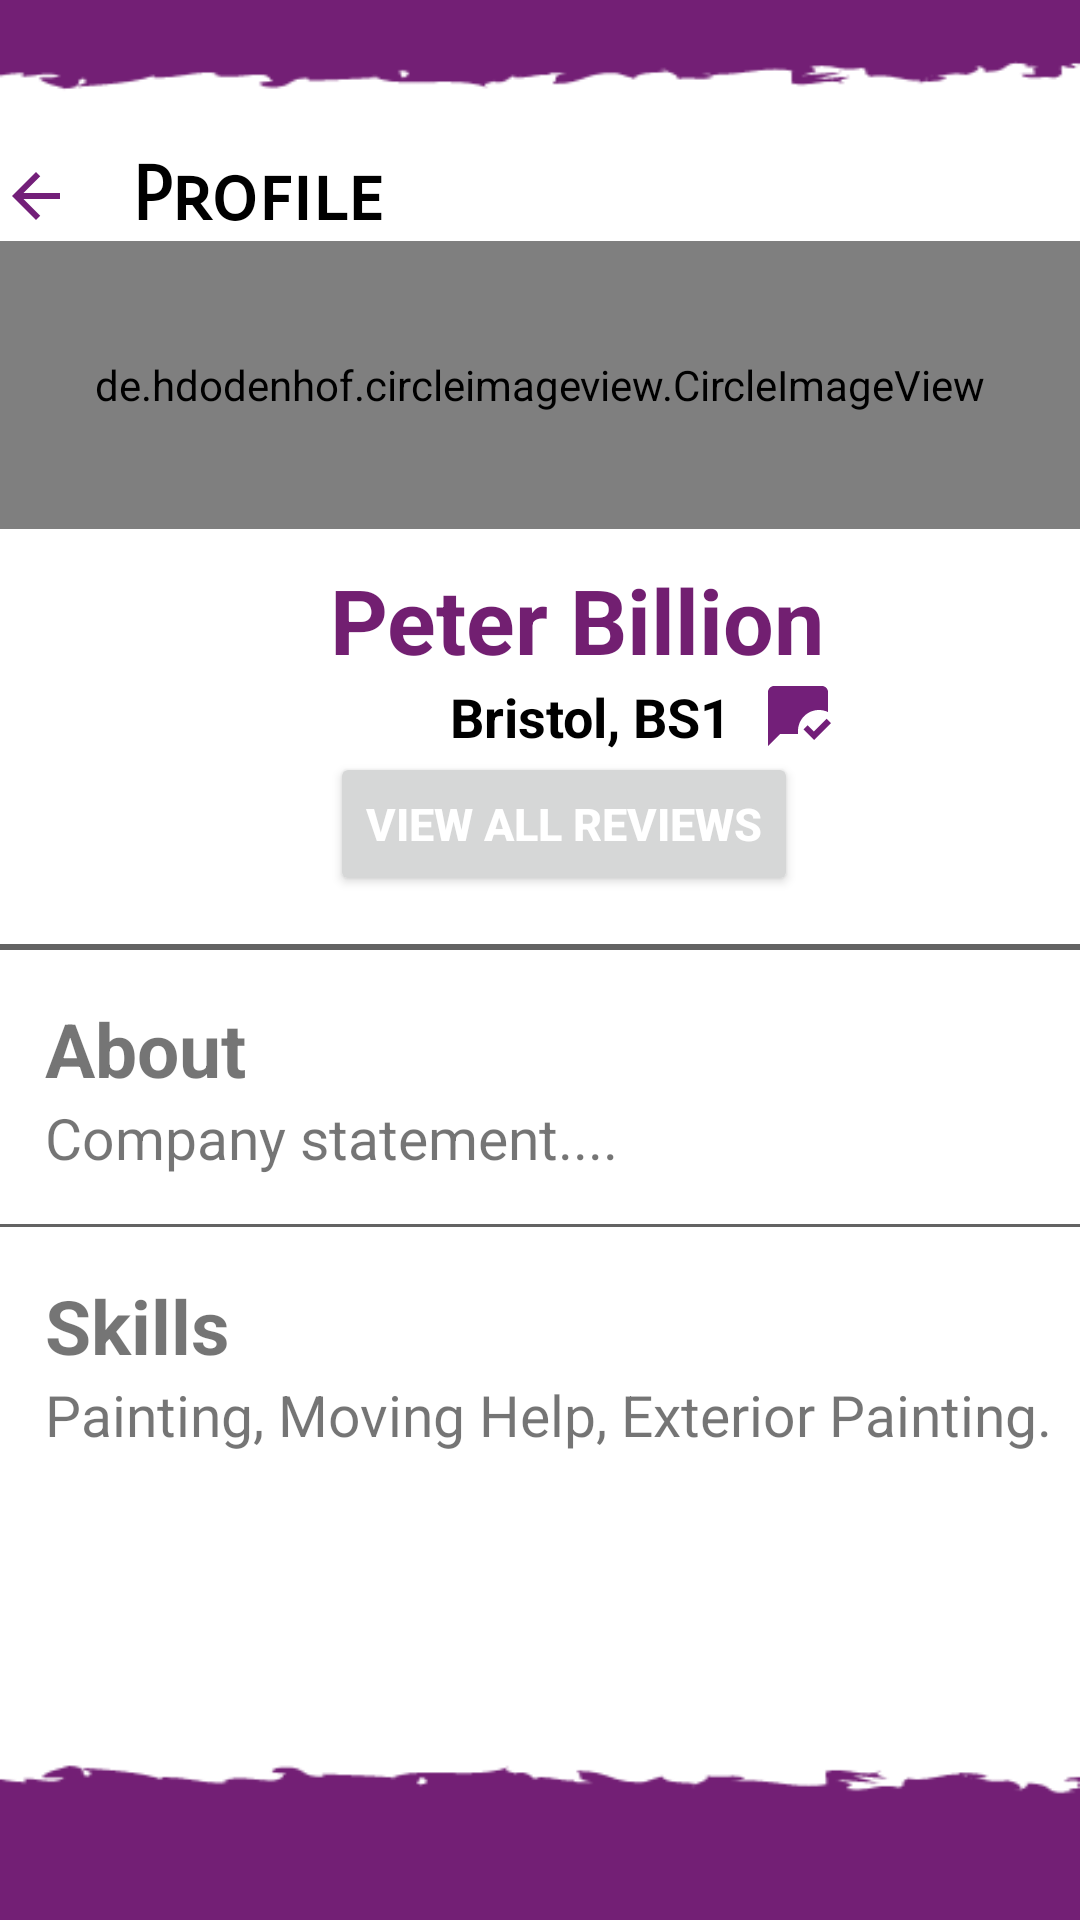

Icon click points for this 1080w x 1920h phone screenshot, format (x,y):
mark chat read: (799,716)
